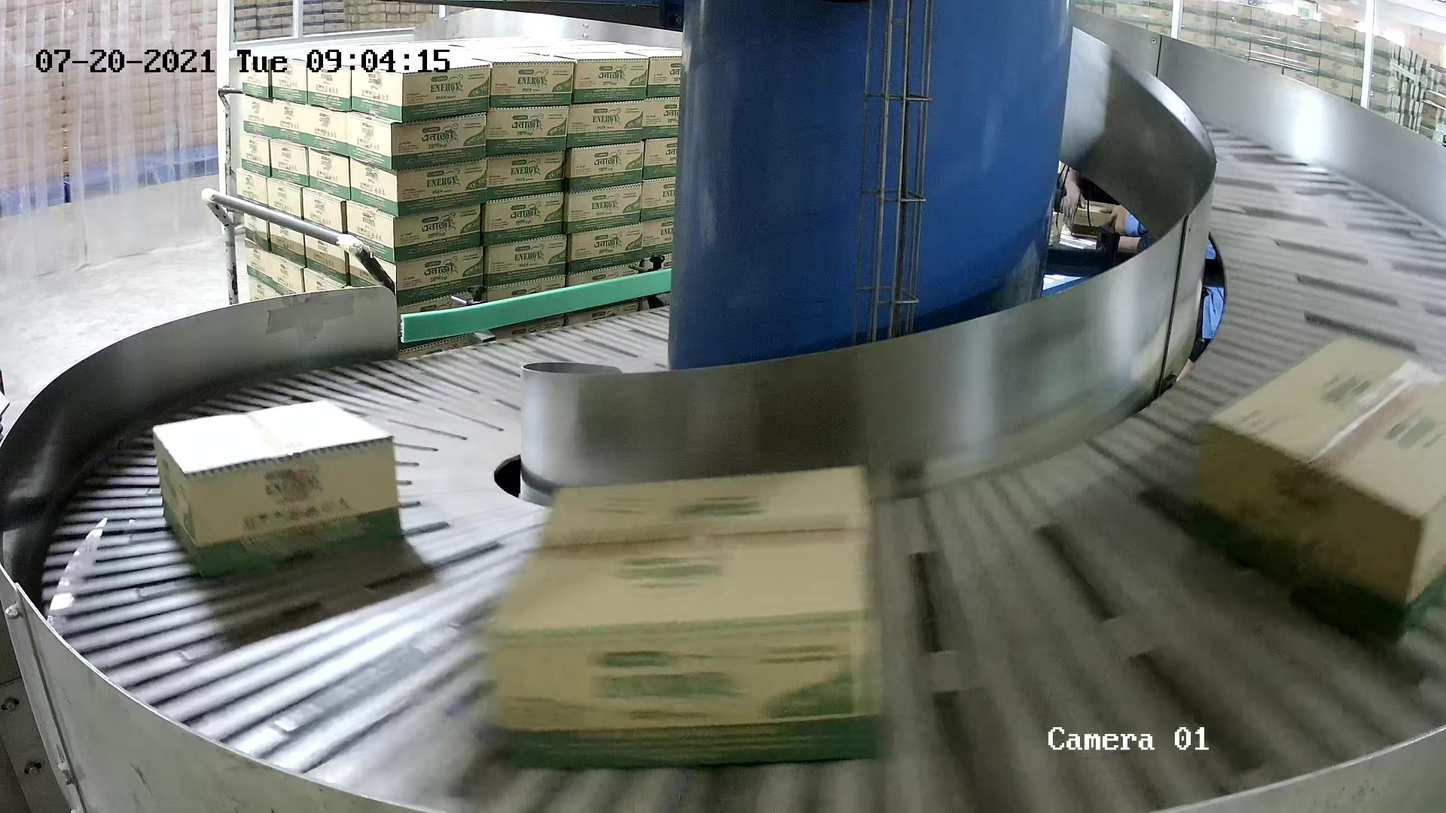Box: (481, 458, 894, 768), (1204, 332, 1446, 652), (150, 394, 407, 582)
